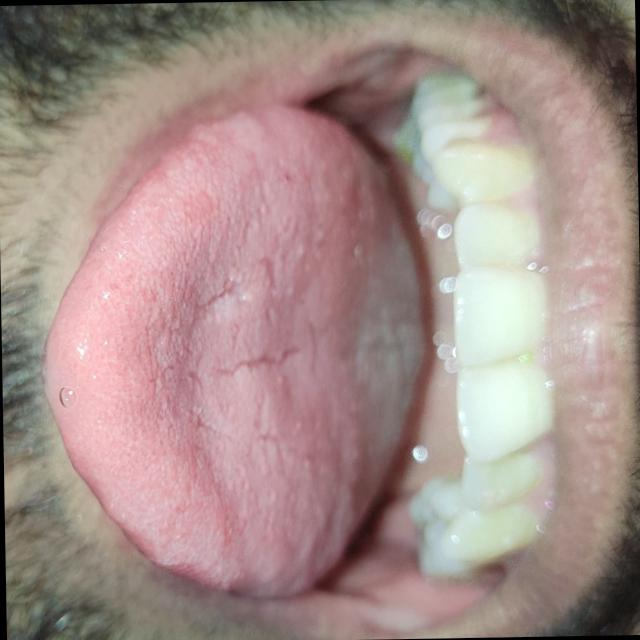No Cancer: (58, 164, 394, 508)
